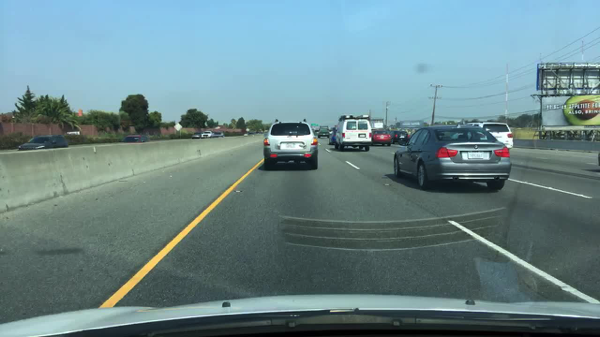car: (392, 124, 512, 191), (262, 121, 318, 170), (466, 120, 513, 153), (334, 114, 372, 152), (17, 136, 70, 150), (369, 128, 392, 147), (123, 134, 150, 143), (389, 130, 408, 142), (315, 128, 332, 139), (329, 127, 338, 145), (191, 131, 202, 140), (200, 131, 212, 139), (212, 132, 224, 137), (596, 153, 599, 166)
traffic sign: (174, 124, 184, 131), (309, 124, 318, 128)
